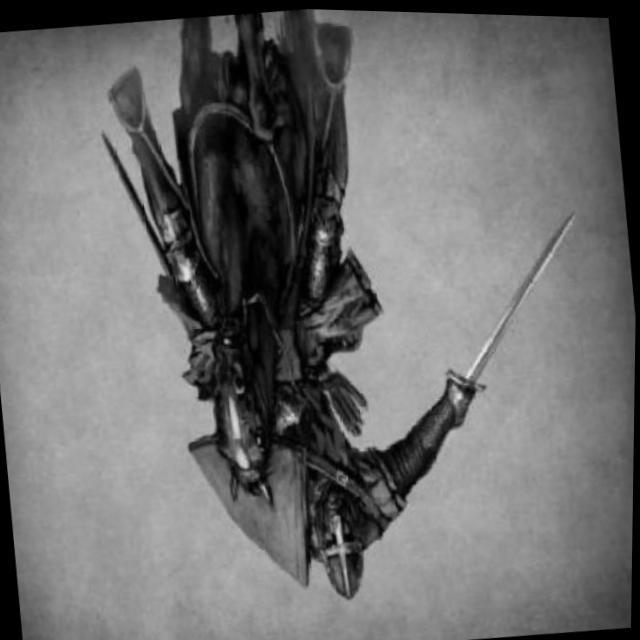weapon: (428, 202, 608, 400)
